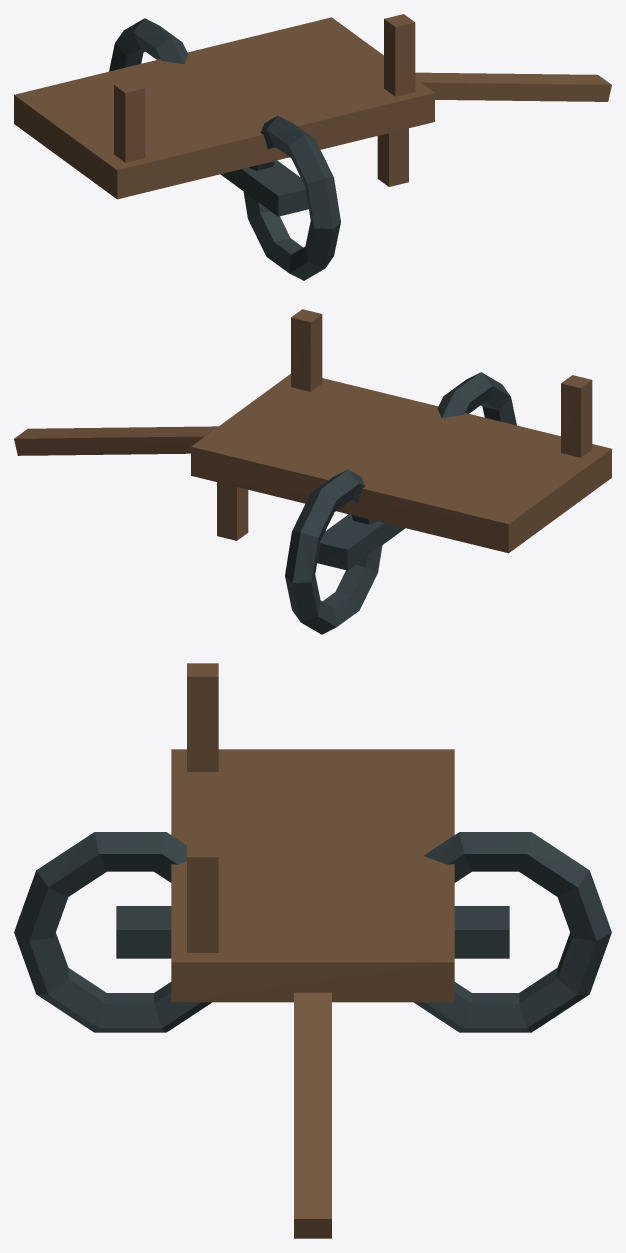
The model's file is hand-cart.source.glb.
The picture shows the model from 3 angles, top to bottom: view 1: azimuth 30°, elevation 25°; view 2: azimuth 150°, elevation 25°; view 3: azimuth 270°, elevation 25°; orthographic projection. The views are drawn at different scales.
Visible parts, largest first — view 1: hand-cart-empty-flat-wooden-deck-mesh, hand-cart-dark-iron-cart-wheel-mesh (×2), hand-cart-slim-timber-pull-handle-mesh, hand-cart-short-deck-rail-mesh (×2), hand-cart-two-wheel-axle-mesh, hand-cart-pull-handle-support-leg-mesh; view 2: hand-cart-empty-flat-wooden-deck-mesh, hand-cart-dark-iron-cart-wheel-mesh (×2), hand-cart-slim-timber-pull-handle-mesh, hand-cart-short-deck-rail-mesh (×2), hand-cart-two-wheel-axle-mesh, hand-cart-pull-handle-support-leg-mesh; view 3: hand-cart-empty-flat-wooden-deck-mesh, hand-cart-dark-iron-cart-wheel-mesh (×2), hand-cart-slim-timber-pull-handle-mesh, hand-cart-short-deck-rail-mesh (×2), hand-cart-two-wheel-axle-mesh.
Boxes of the visible parts, x1,y1,x2,y2 form: hand-cart-empty-flat-wooden-deck-mesh: (14, 17, 434, 199); hand-cart-dark-iron-cart-wheel-mesh (×2): (109, 18, 340, 280); hand-cart-slim-timber-pull-handle-mesh: (415, 72, 611, 101); hand-cart-short-deck-rail-mesh (×2): (114, 14, 415, 162); hand-cart-two-wheel-axle-mesh: (221, 160, 308, 216); hand-cart-pull-handle-support-leg-mesh: (377, 128, 408, 186); hand-cart-empty-flat-wooden-deck-mesh: (191, 374, 611, 553); hand-cart-dark-iron-cart-wheel-mesh (×2): (285, 372, 516, 634); hand-cart-slim-timber-pull-handle-mesh: (14, 426, 218, 455); hand-cart-short-deck-rail-mesh (×2): (291, 309, 592, 457); hand-cart-two-wheel-axle-mesh: (317, 514, 405, 570); hand-cart-pull-handle-support-leg-mesh: (217, 482, 248, 540); hand-cart-empty-flat-wooden-deck-mesh: (171, 749, 454, 1002); hand-cart-dark-iron-cart-wheel-mesh (×2): (14, 832, 611, 1032); hand-cart-slim-timber-pull-handle-mesh: (294, 992, 331, 1238); hand-cart-short-deck-rail-mesh (×2): (187, 663, 218, 952); hand-cart-two-wheel-axle-mesh: (116, 906, 509, 958).
Bounding box in the file's own units: 2.72 × 0.955 × 1.9.
